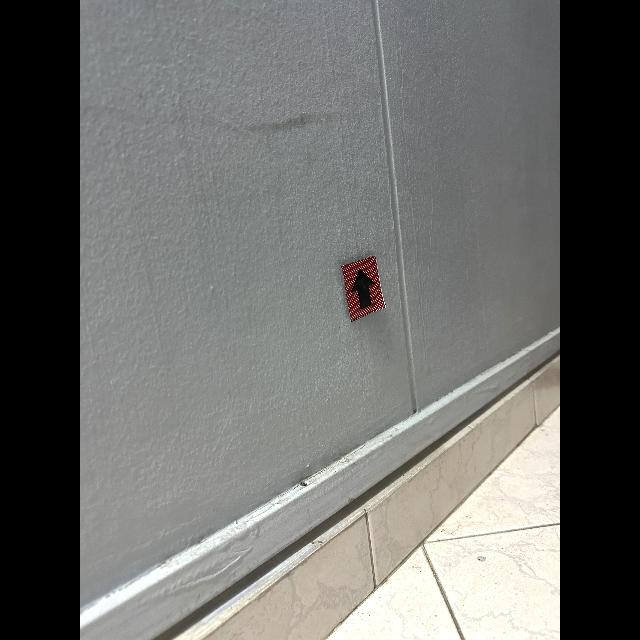UP: (352, 269, 374, 309)
